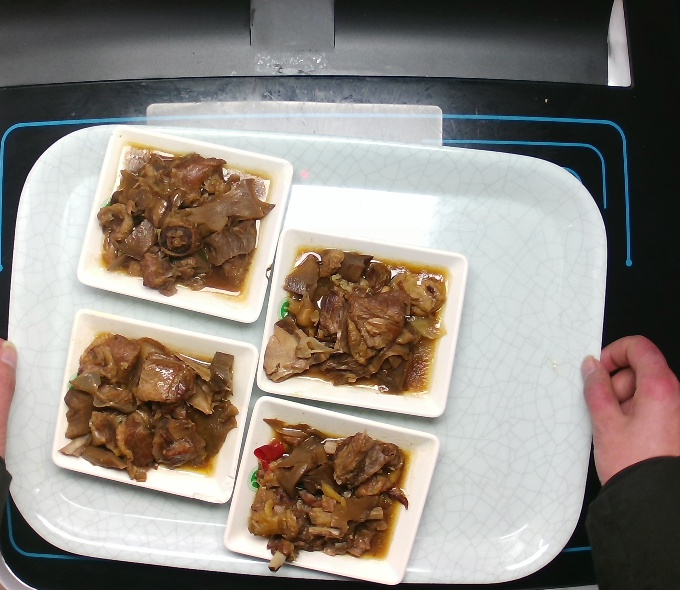wcq-YaRouSunGan: (258, 243, 448, 401), (53, 326, 241, 485), (90, 145, 280, 301), (245, 410, 417, 576)
